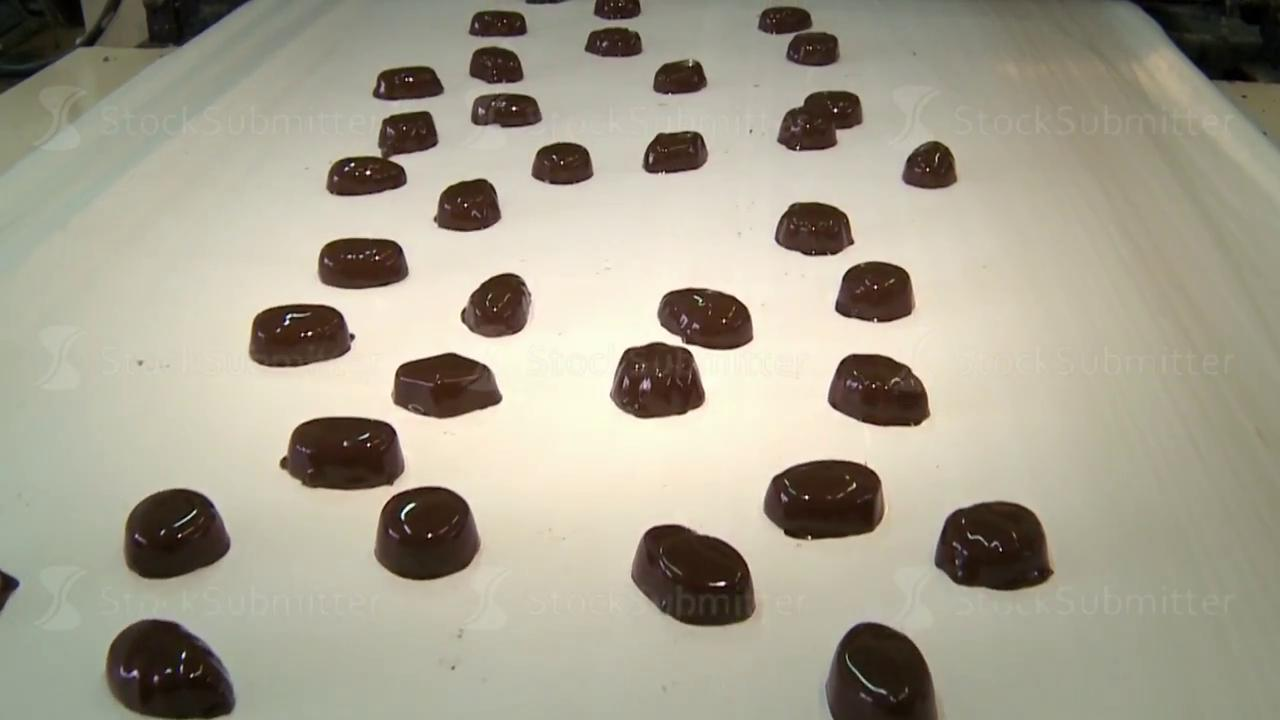chocolate: (105, 618, 235, 718), (630, 523, 755, 625), (824, 621, 938, 719), (934, 500, 1053, 590), (374, 485, 480, 579), (763, 459, 884, 540), (123, 487, 230, 578), (279, 415, 404, 490), (827, 353, 930, 426), (392, 352, 502, 418), (610, 342, 705, 418), (249, 302, 353, 366), (658, 287, 753, 349), (835, 260, 914, 322), (461, 272, 532, 337), (318, 237, 408, 288), (774, 201, 854, 255), (434, 178, 500, 231), (326, 155, 406, 195), (643, 130, 707, 173), (378, 110, 437, 155), (902, 140, 957, 188), (777, 106, 837, 150), (532, 141, 593, 184), (373, 65, 443, 100), (471, 93, 541, 127), (805, 89, 862, 128), (469, 46, 522, 83), (653, 58, 706, 94), (786, 31, 839, 65), (585, 26, 642, 57), (757, 6, 812, 34), (468, 10, 527, 36)
